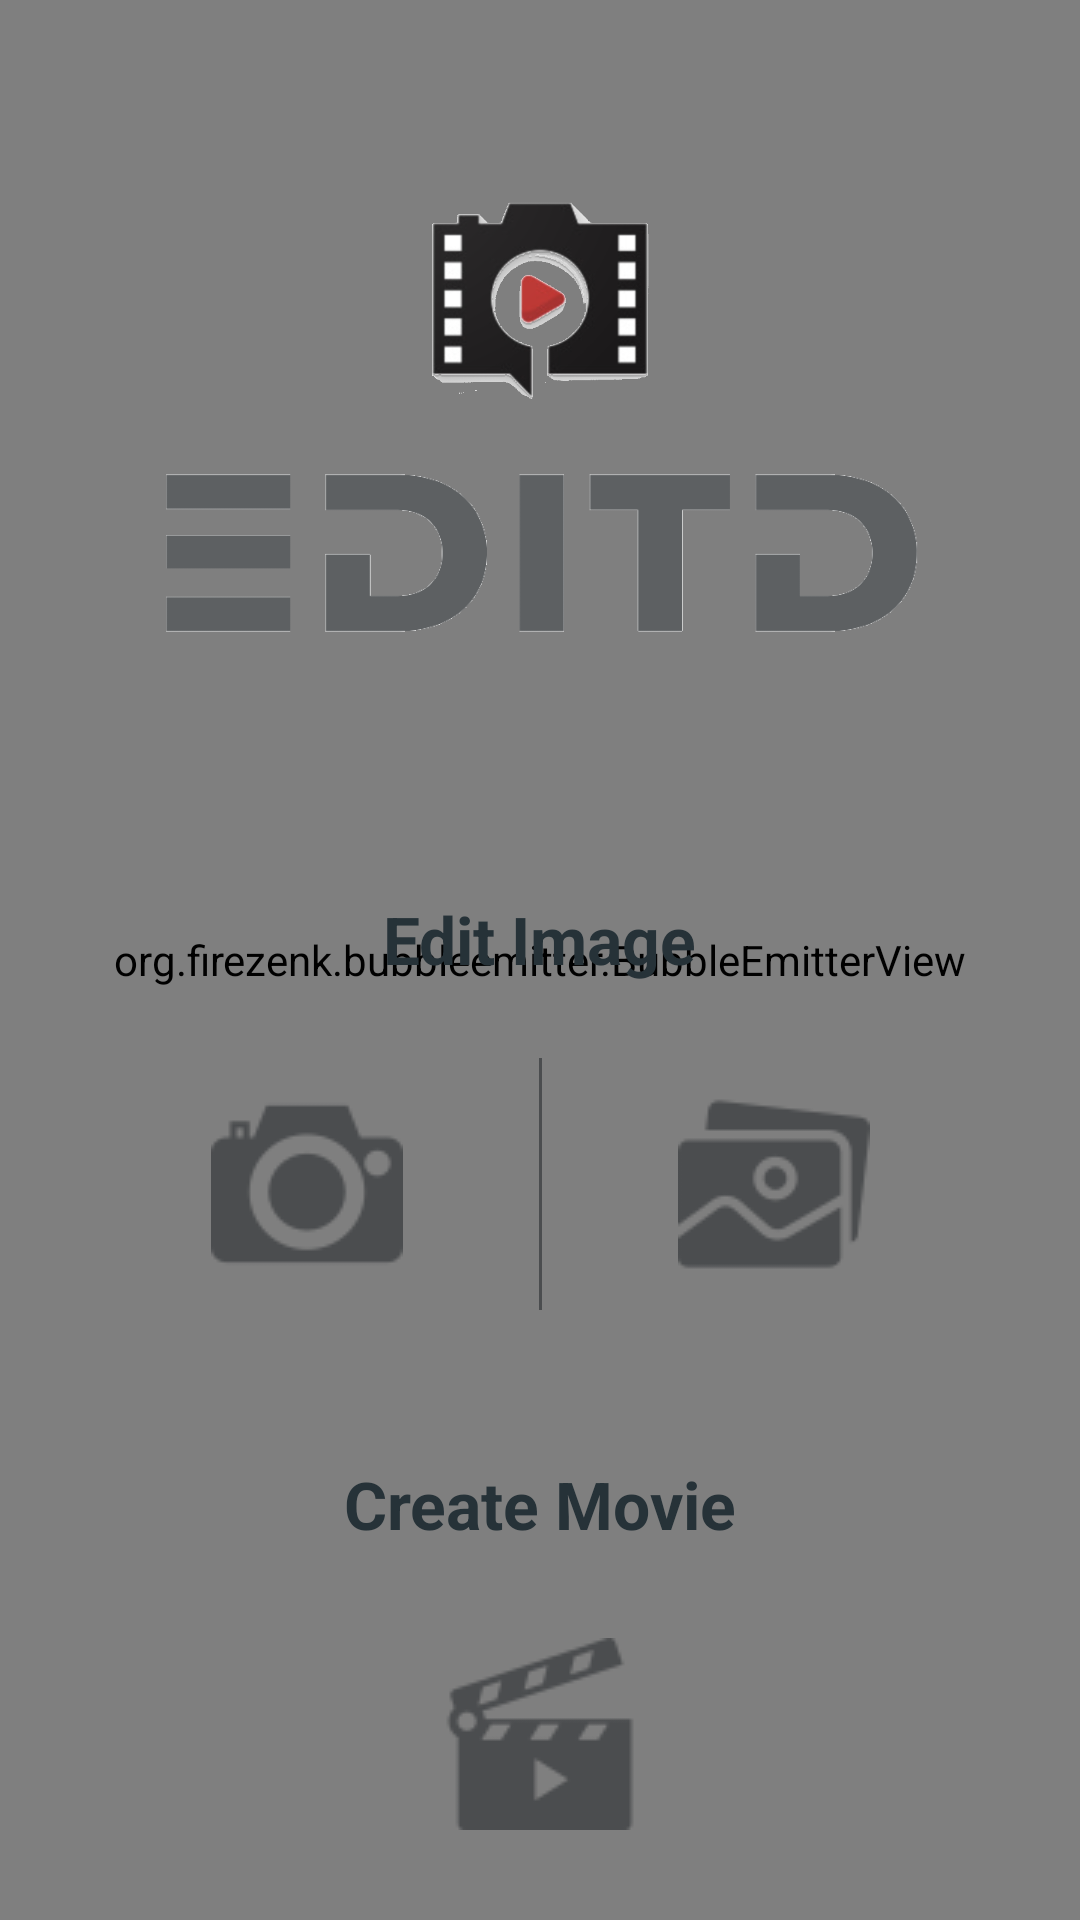

Screen size 1080x1920. Icon name, then its center in pixels as point (x, y):
camera: point (307, 1184)
gallery: point (774, 1184)
